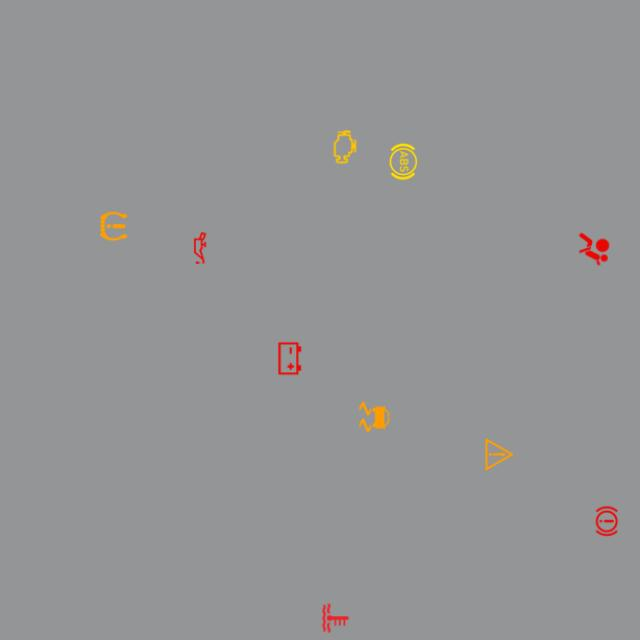Anti Lock Braking System: (384, 142, 423, 181)
Braking System Issue: (587, 501, 626, 541)
Charging System Issue: (270, 339, 310, 378)
Check Engine: (325, 127, 365, 167)
Electronic Stability Problem -ESP-: (354, 397, 394, 437)
Engine Overheating Warning Light: (316, 598, 355, 638)
Low Engine Oil Warning Light: (180, 228, 220, 268)
Low Tire Pressure Warning Light: (94, 206, 133, 246)
Master warning light: (480, 435, 519, 474)
SRS-Airbag: (574, 229, 614, 269)
